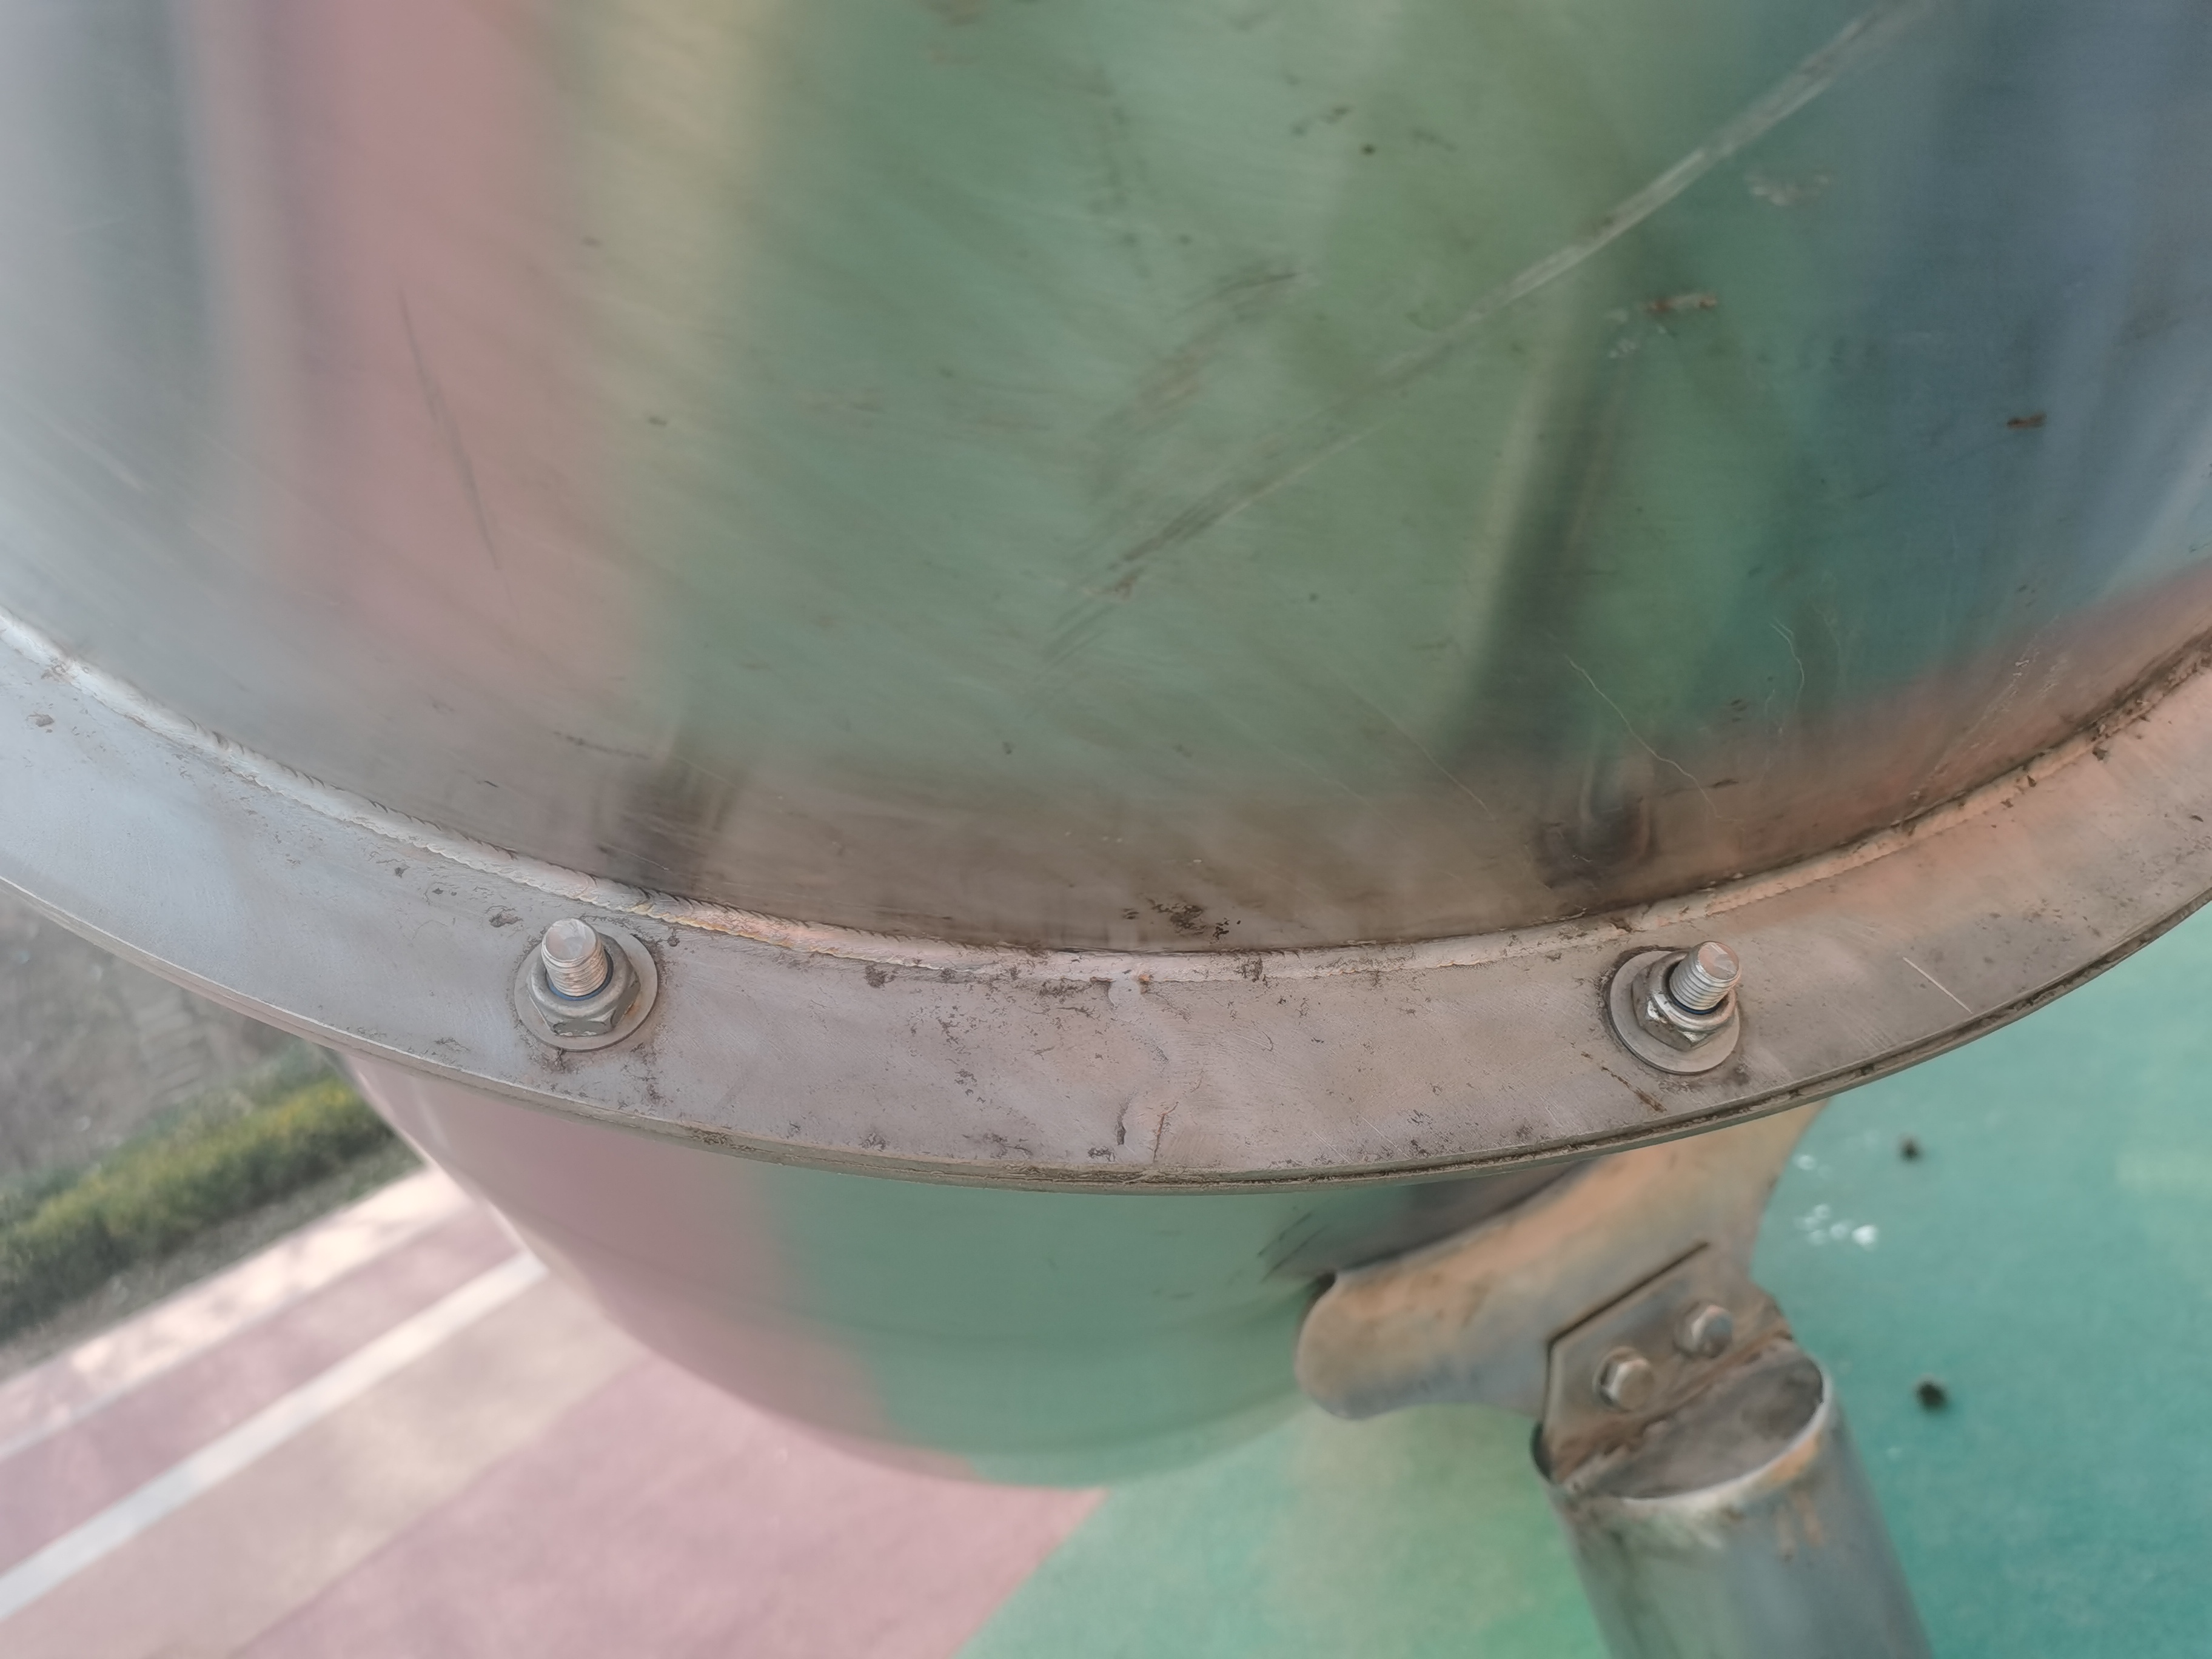bolt_b: (521, 925, 644, 1042), (1629, 941, 1743, 1056)
vague: (1595, 1352, 1663, 1417), (1676, 1297, 1738, 1363)
